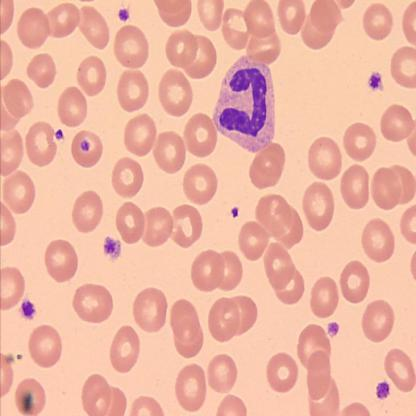Band Neutrophil: (211, 54, 278, 155)
